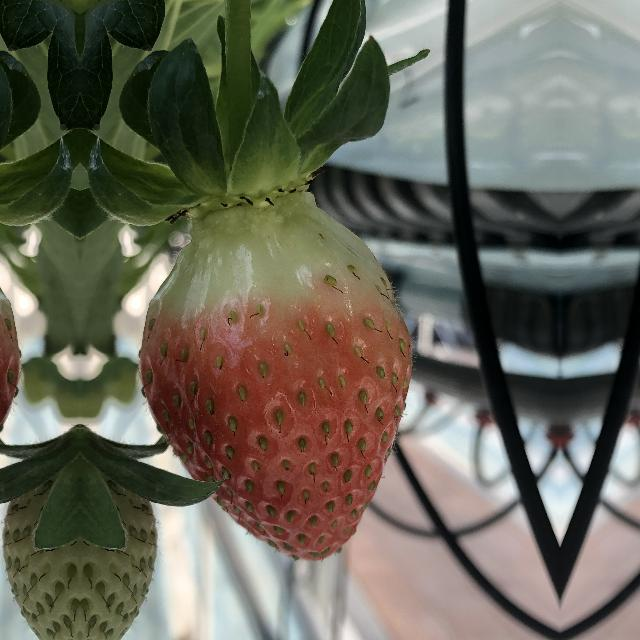Health_100: (124, 200, 420, 572)
Health_25: (1, 418, 78, 638), (82, 418, 158, 638)
